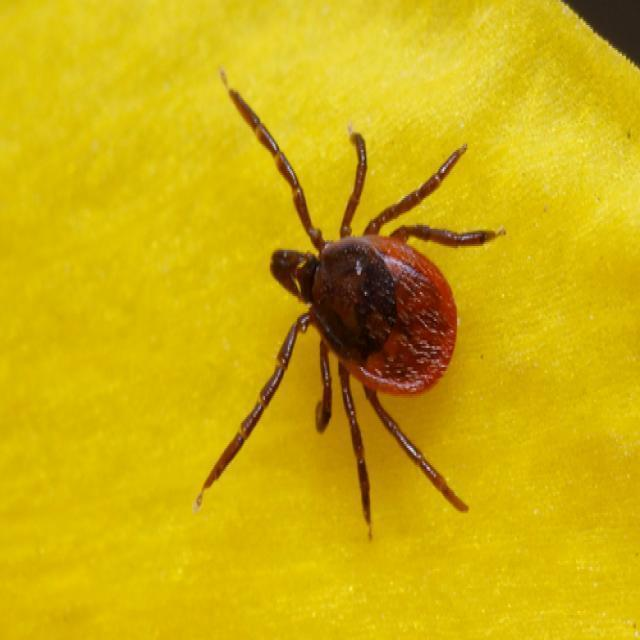Ixodes Ricinus-F: (207, 90, 506, 530)
